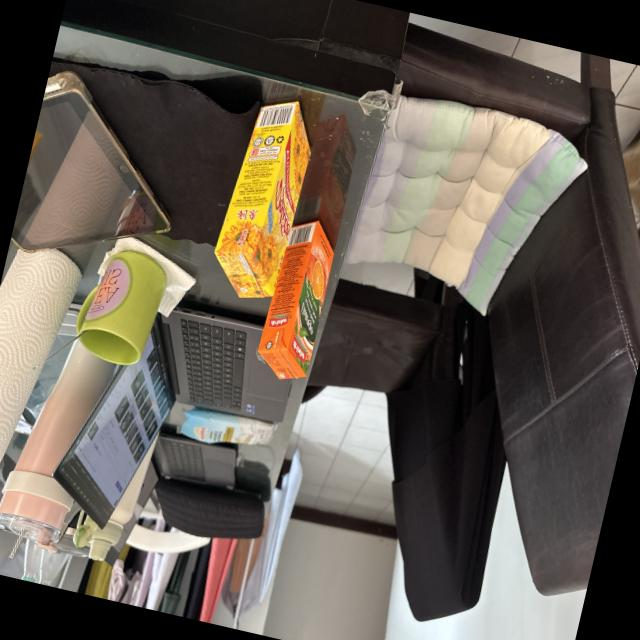drink_carton: (200, 83, 327, 311), (248, 208, 348, 390)
